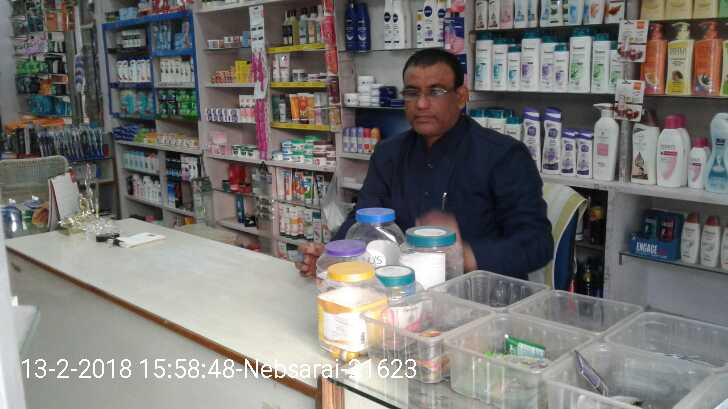venus: (161, 24, 172, 49), (153, 24, 161, 49)
